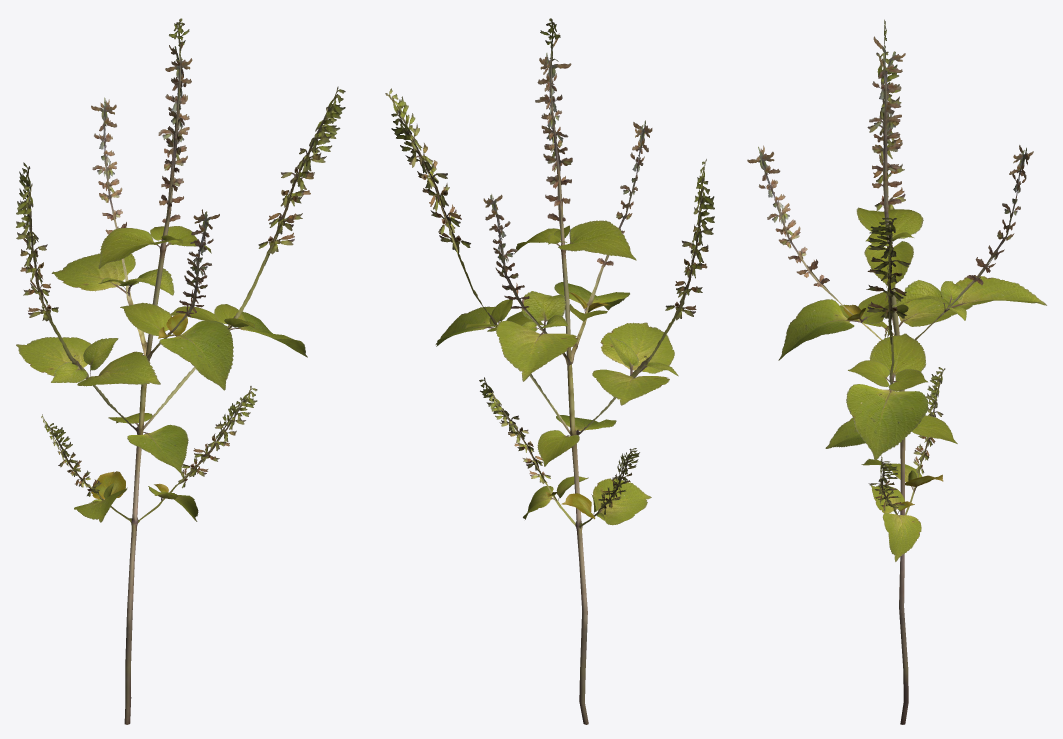
3 renders of one model, left to right at view 1: azimuth 30°, elevation 25°; view 2: azimuth 150°, elevation 25°; view 3: azimuth 270°, elevation 25°, orthographic. The views are drawn at different scales.
Visible parts, largest first — view 1: shrub_03__a_lod0; view 2: shrub_03__a_lod0; view 3: shrub_03__a_lod0.
Part boxes in pixels (left/top/right/bottom): shrub_03__a_lod0: left=16, top=18, right=345, bottom=724; shrub_03__a_lod0: left=385, top=18, right=714, bottom=724; shrub_03__a_lod0: left=747, top=19, right=1046, bottom=724.
Bounding box in the file's own units: 0.2006 × 0.4028 × 0.1512.
Materials: 1 (1 with a texture image).
